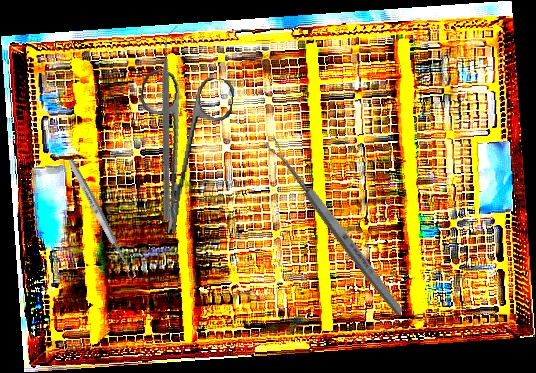Chopper: (80, 24, 264, 222)
Iris Scissors: (122, 68, 236, 240)
Surgical Spoon: (264, 135, 406, 318), (66, 157, 137, 281)
